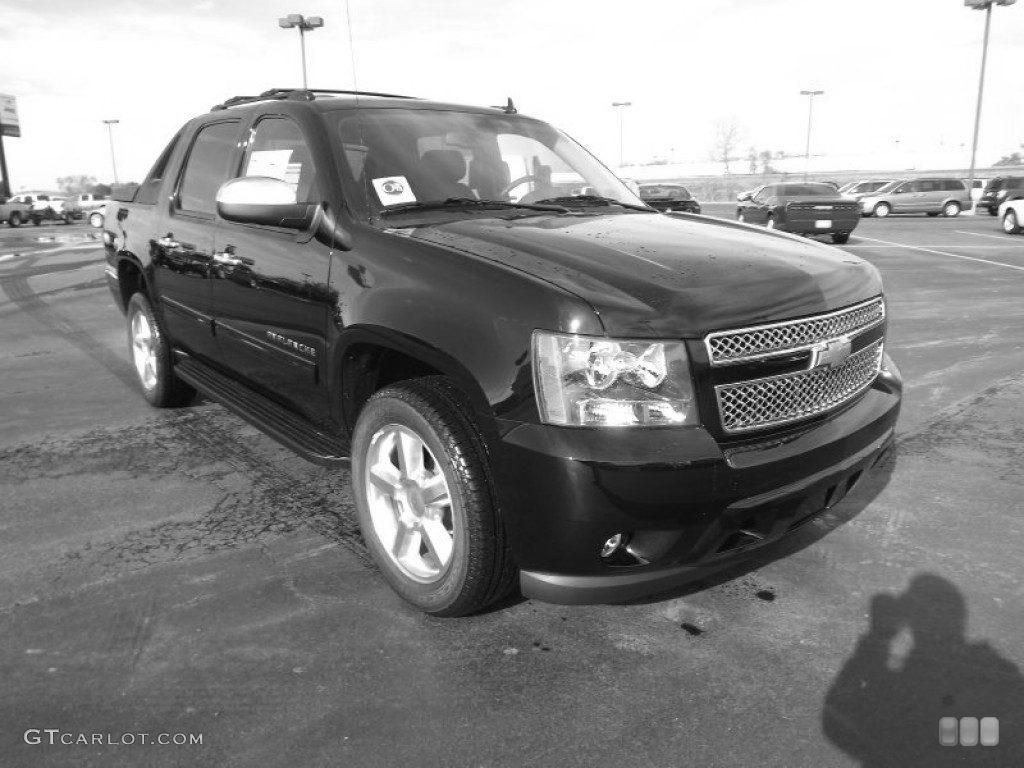car: (110, 91, 905, 627)
